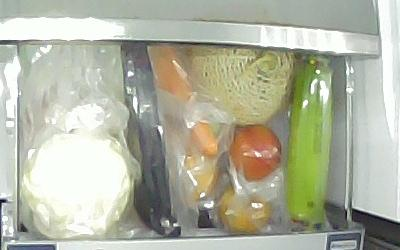cabbage_vinyl: (20, 128, 135, 238)
carrot_vinyl: (145, 44, 219, 157)
eggplant_vinyl: (118, 41, 182, 238)
melon: (185, 44, 295, 125)
prune_vinyl: (227, 123, 283, 180)
tangerine_vinyl: (216, 186, 271, 231)
zucchini: (283, 61, 332, 230)
